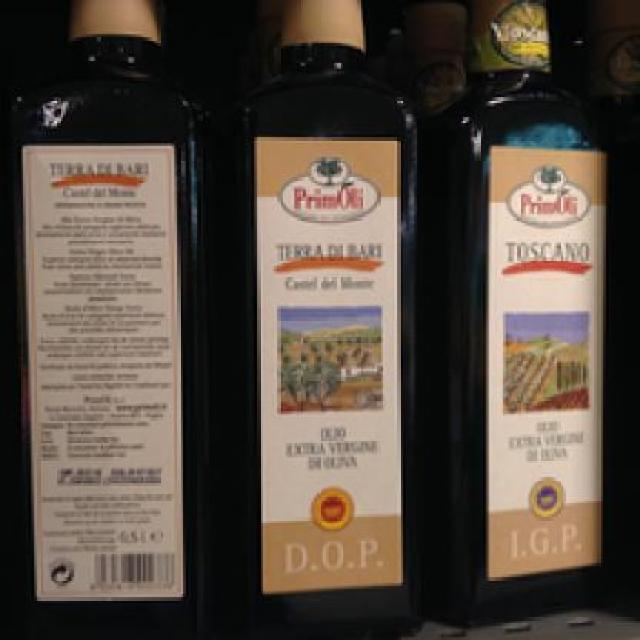Oil: (3, 2, 223, 632), (223, 0, 432, 637), (422, 3, 612, 626)
